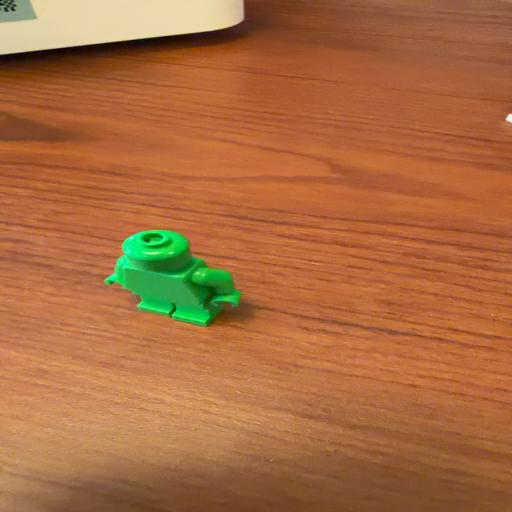UnoQ-minifig-detector: (105, 230, 241, 326)
